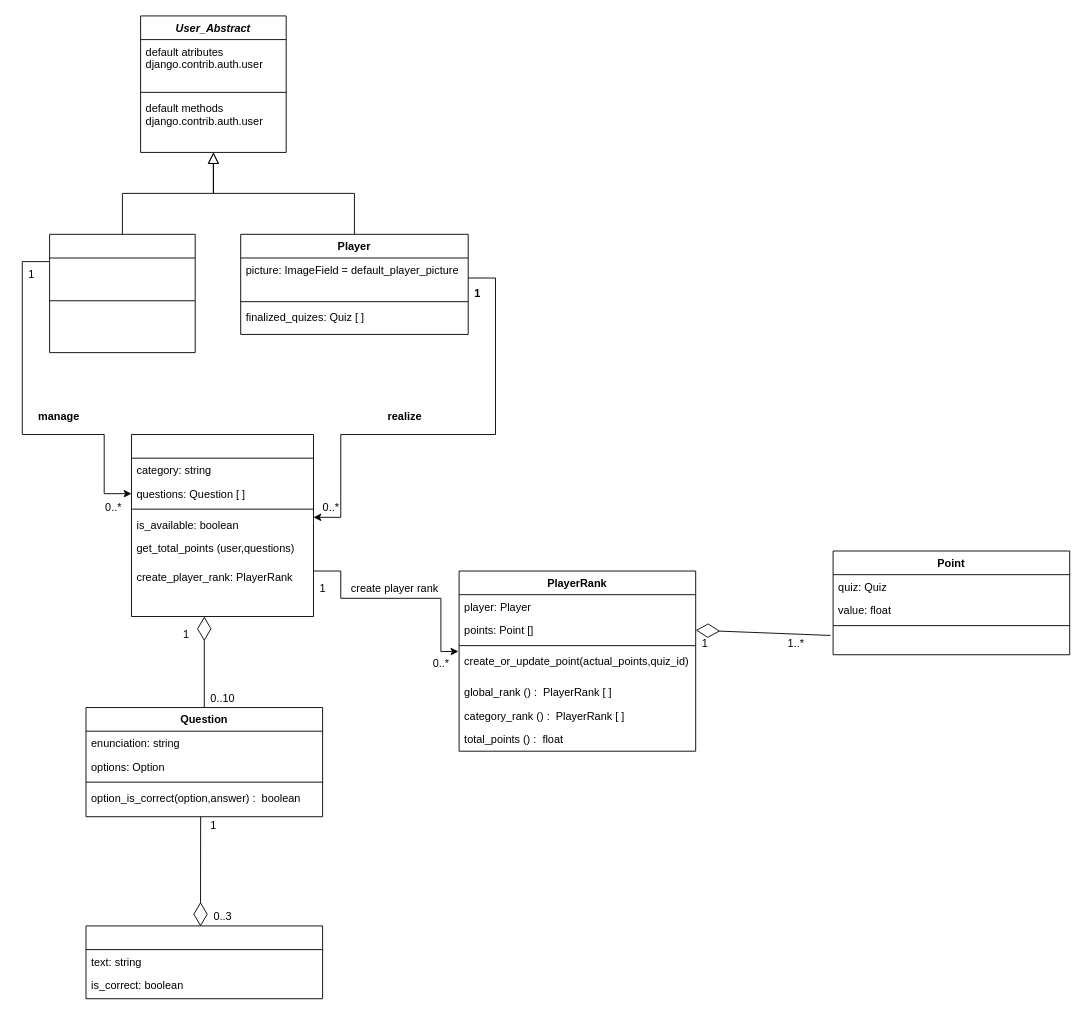
Image size: 1086x1016. Some labels were removed from this diagram. The box of each missing label's shape, as (x1, y1, x2, y2) in pixels:
Admin: (49, 233, 195, 353)
Option: (85, 925, 323, 999)
Quiz: (131, 434, 313, 617)
